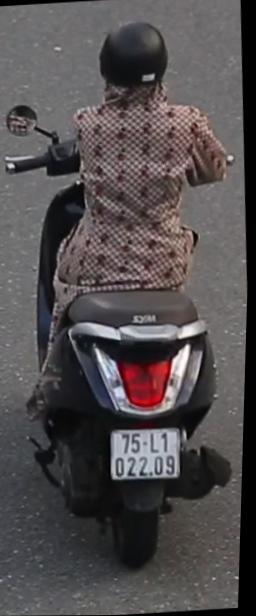LP: (105, 423, 187, 485)
helmet: (92, 11, 181, 114)
